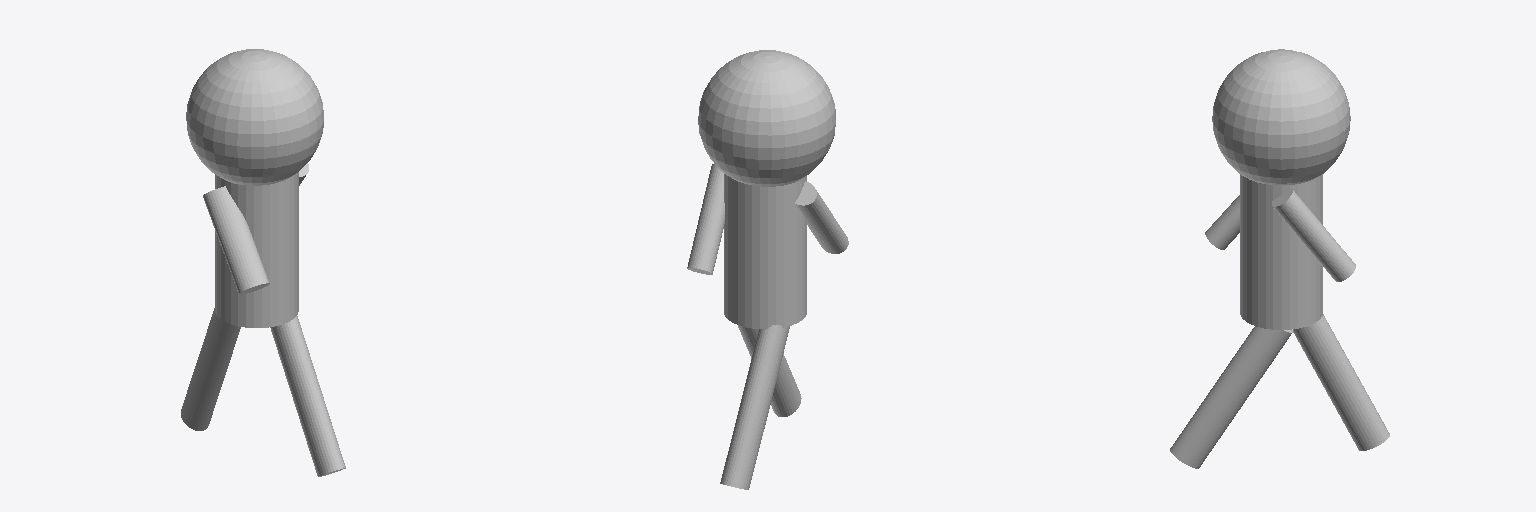
File: orig2.obj
The picture shows the model from 3 angles: view 1: azimuth 30°, elevation 25°; view 2: azimuth 150°, elevation 25°; view 3: azimuth 270°, elevation 25°; orthographic projection.
Visible parts, largest first — view 1: Cylinder.005_Cylinder.006; view 2: Cylinder.005_Cylinder.006; view 3: Cylinder.005_Cylinder.006.
Boxes of the visible parts, x1=… form: Cylinder.005_Cylinder.006: x1=181, y1=49, x2=345, y2=476; Cylinder.005_Cylinder.006: x1=687, y1=50, x2=848, y2=489; Cylinder.005_Cylinder.006: x1=1170, y1=49, x2=1389, y2=468.
Size of the model in its own units: 0.5129 by 1.63 by 0.8152.